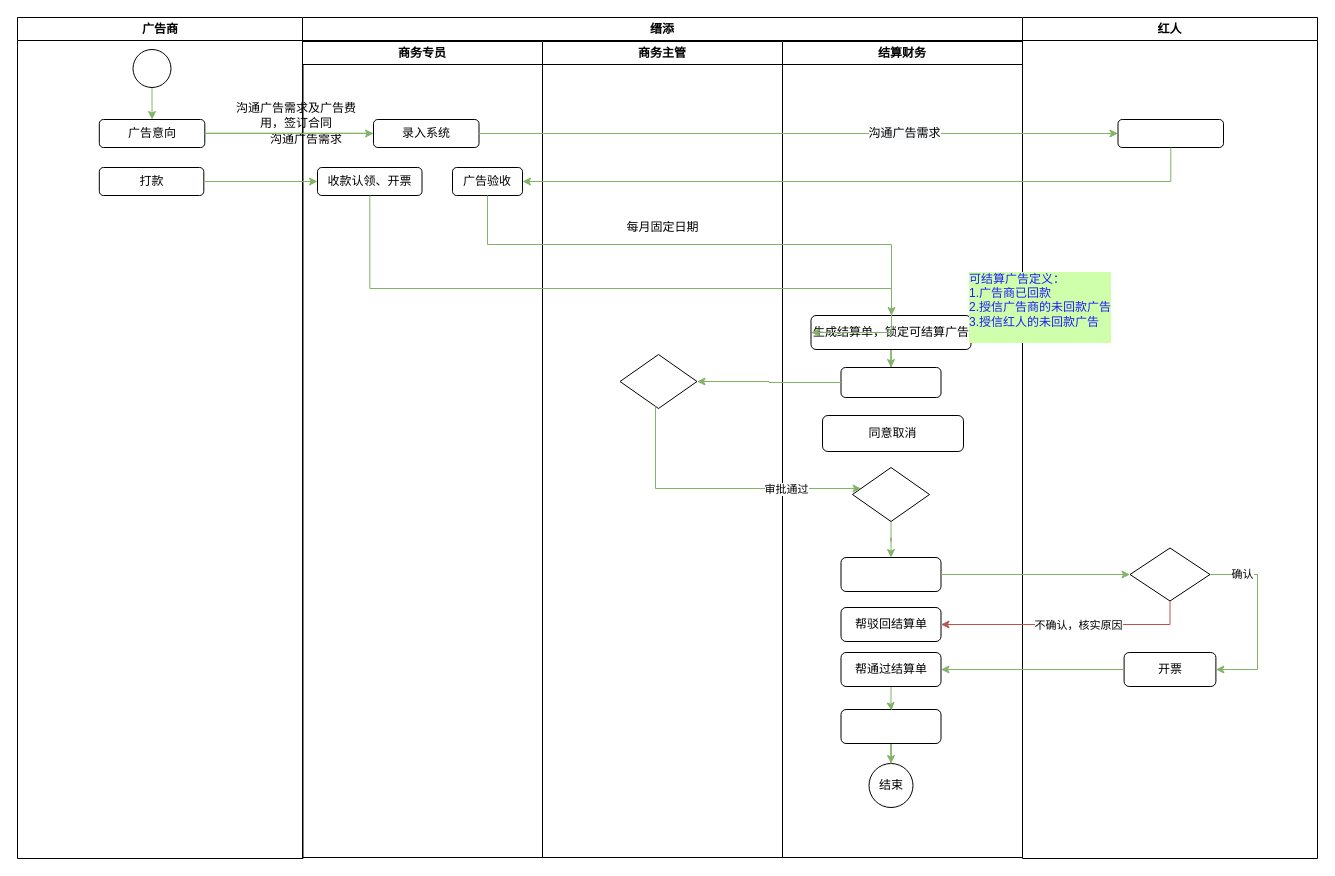
Image size: 1335x876. Some labels were removed from this diagram. The centre of each missing label's shape, as x and y in pixels:
一级审批 是否有误: the point at 658,381
上传发票/付款: the point at 890,726
二级审批 确认网红收益: the point at 891,494
发布广告: the point at 1170,133
发起审批: the point at 890,382
发送结算单: the point at 890,574
开始: the point at 151,68
网红确认: the point at 1169,574
